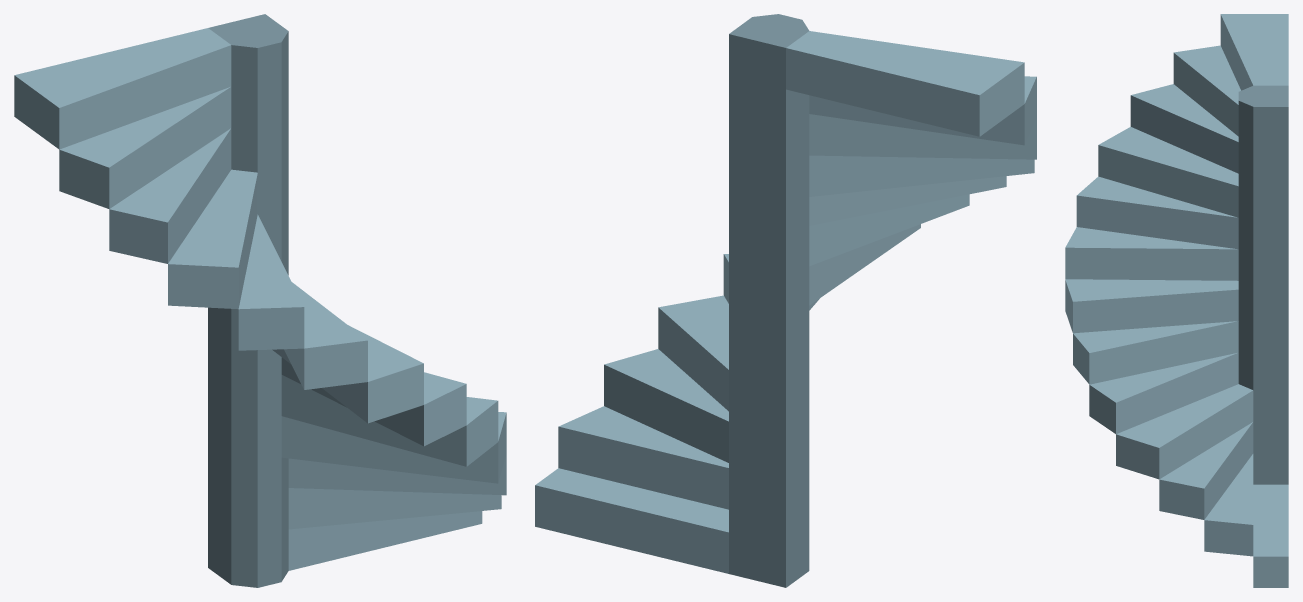
The model's file is stairsStoneRound.dae.
The picture shows the model from 3 angles, left to right: view 1: azimuth 30°, elevation 25°; view 2: azimuth 150°, elevation 25°; view 3: azimuth 270°, elevation 25°; orthographic projection. The views are drawn at different scales.
Visible parts, largest first — view 1: stairsStoneRound; view 2: stairsStoneRound; view 3: stairsStoneRound.
Boxes of the visible parts, x1=… form: stairsStoneRound: x1=14, y1=14, x2=506, y2=587; stairsStoneRound: x1=535, y1=14, x2=1036, y2=587; stairsStoneRound: x1=1065, y1=14, x2=1288, y2=587.
Bounding box in the file's own units: 0.8618 × 1 × 0.4949.
